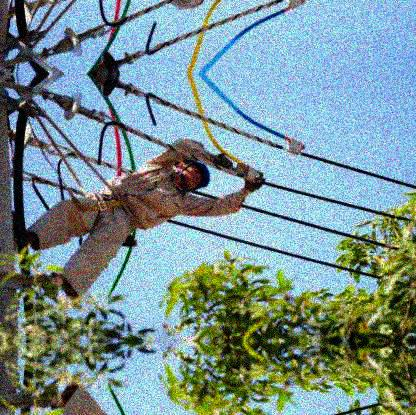helmet: (170, 156, 212, 191)
